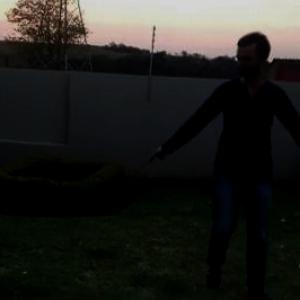land: (87, 0, 299, 299)
